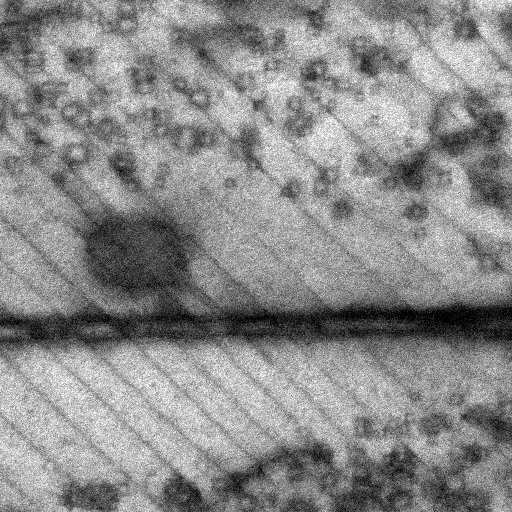5: (312, 58, 353, 93), (350, 44, 391, 77), (379, 410, 415, 442), (169, 123, 202, 157), (423, 160, 453, 196), (106, 148, 139, 180), (315, 466, 345, 498), (58, 141, 92, 167), (300, 86, 335, 111), (58, 99, 89, 127), (451, 16, 483, 43), (283, 455, 310, 487), (85, 83, 113, 112), (66, 105, 93, 135), (345, 33, 376, 59), (10, 96, 37, 124), (352, 413, 378, 442), (475, 251, 505, 276), (399, 201, 430, 224), (231, 67, 257, 93), (195, 126, 221, 151), (186, 86, 212, 110), (304, 9, 324, 40), (461, 232, 483, 260), (166, 23, 188, 51), (2, 153, 26, 178), (207, 473, 233, 494), (22, 124, 44, 148), (261, 488, 284, 510), (366, 79, 390, 100), (445, 387, 467, 409), (491, 239, 512, 261), (32, 112, 54, 133), (150, 122, 171, 143), (363, 110, 384, 131), (169, 73, 191, 93), (155, 158, 177, 178), (237, 494, 261, 512), (348, 86, 369, 106), (377, 172, 396, 194), (120, 176, 142, 195), (262, 55, 284, 74), (150, 171, 169, 193), (405, 107, 422, 131), (40, 453, 60, 472), (139, 106, 162, 122), (218, 173, 238, 191), (401, 387, 422, 404), (115, 480, 132, 498), (400, 134, 417, 152), (125, 112, 141, 126)
a-axis: (0, 303, 512, 356)
y2o3: (325, 196, 356, 223), (190, 42, 218, 66), (46, 166, 70, 193), (249, 94, 270, 113), (390, 59, 412, 77), (301, 70, 318, 85)
y2o3_orange: (330, 439, 425, 512), (419, 464, 493, 512), (431, 113, 512, 156), (147, 466, 218, 512), (464, 162, 510, 221), (56, 477, 121, 512), (227, 117, 266, 174), (456, 84, 508, 126), (385, 148, 431, 194), (81, 113, 130, 150), (282, 93, 319, 140), (121, 53, 158, 96), (416, 409, 454, 447), (25, 81, 69, 111), (345, 147, 384, 180), (447, 441, 491, 470), (1, 18, 28, 64), (236, 21, 269, 58), (107, 0, 138, 39), (311, 158, 340, 199), (45, 0, 84, 26), (307, 436, 339, 467), (62, 46, 99, 72), (17, 47, 47, 74), (17, 12, 41, 45), (277, 177, 302, 202)
